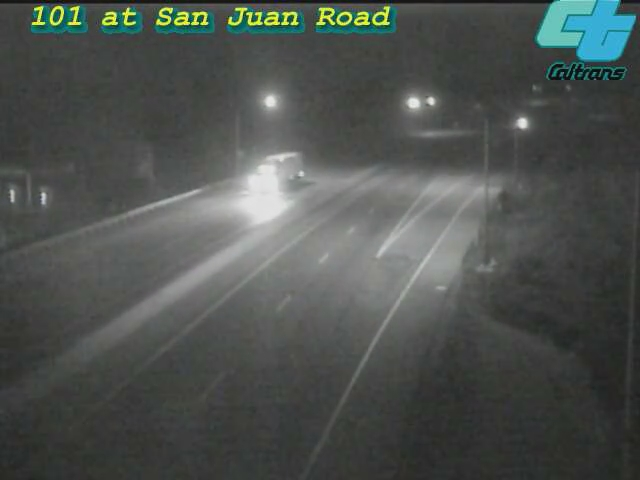vehicle: (235, 135, 315, 215), (495, 98, 545, 148)
